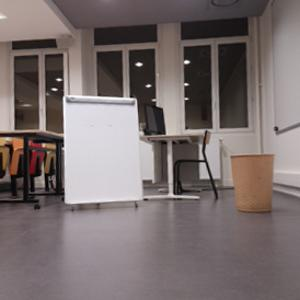big: (62, 95, 144, 207)
medium: (231, 153, 275, 212)
